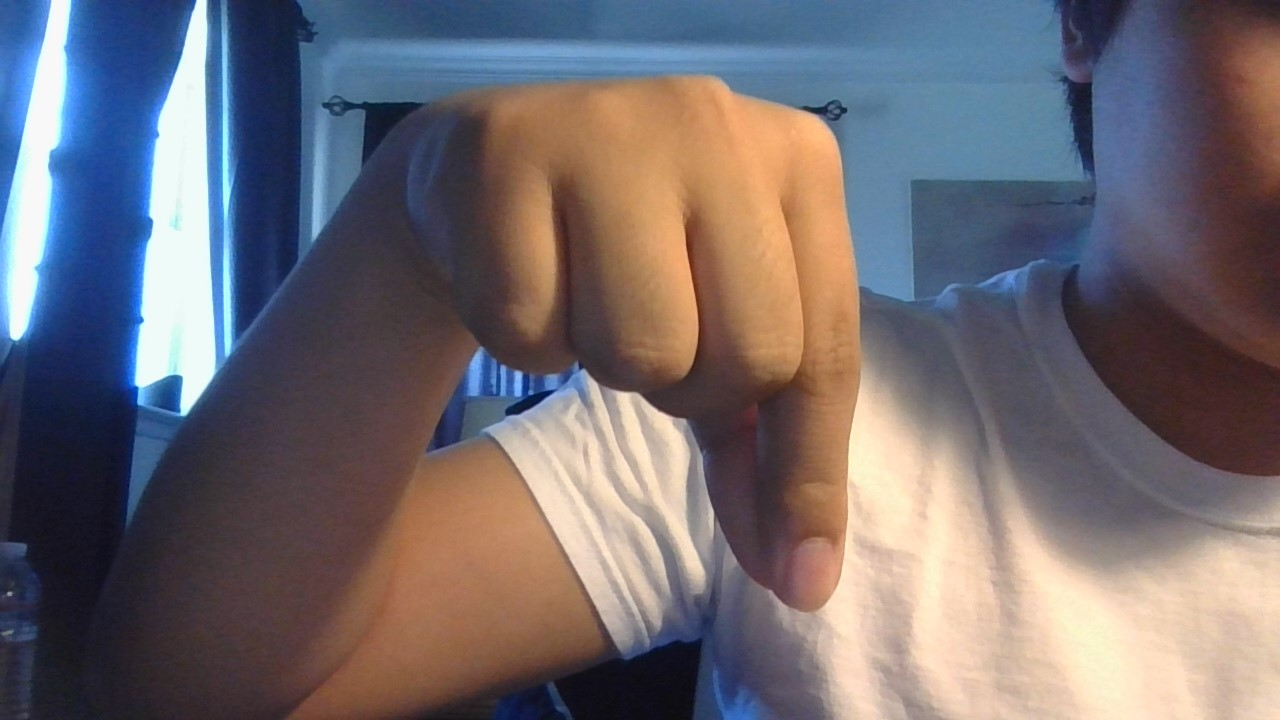q: (384, 60, 942, 648)
